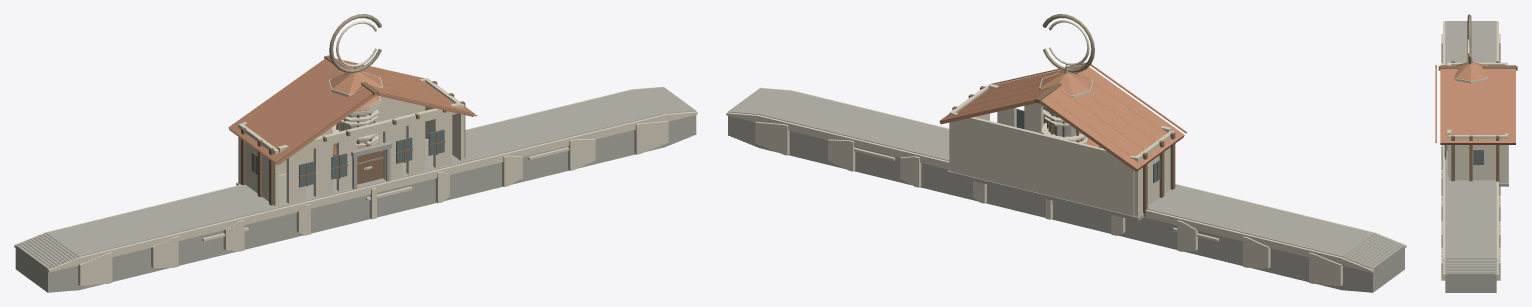
Rendered from world15-village-architecture.glb.
3 renders of one model, left to right at view 1: azimuth 30°, elevation 25°; view 2: azimuth 150°, elevation 25°; view 3: azimuth 270°, elevation 25°, orthographic. The views are drawn at different scales.
Parts seen in each view (by area): view 1: coursed-retaining-stone.007, Hall_cream lime plaster, Hall_ochre fired clay, coursed-retaining-stone.005, Wall_07_river-worn stone, Wall_10_cream lime plaster, coursed-retaining-stone, Hall_deep walnut timber, coursed-retaining-stone.003, Wall_00_cream lime plaster, Wall_03_cream lime plaster, Wall_06_cream lime plaster (+16 smaller); view 2: coursed-retaining-stone.007, Hall_cream lime plaster, Hall_ochre fired clay, coursed-retaining-stone, coursed-retaining-stone.001, Wall_07_river-worn stone, Wall_10_cream lime plaster, Wall_00_cream lime plaster, Wall_09_cream lime plaster, coursed-retaining-stone.002, Wall_03_cream lime plaster, Wall_03_river-worn stone (+14 smaller); view 3: coursed-retaining-stone.007, Hall_ochre fired clay, Hall_cream lime plaster, coursed-retaining-stone, Wall_10_cream lime plaster, Hall_deep walnut timber, ochre-watch-roof.001, Wall_00_cream lime plaster, bronze-moon-crest, Wall_03_river-worn stone, Wall_05_river-worn stone, coursed-retaining-stone.001 (+10 smaller).
Part boxes in pixels (x1=…): coursed-retaining-stone.007: x1=46, y1=89, x2=665, y2=290; Hall_cream lime plaster: x1=238, y1=21, x2=464, y2=206; Hall_ochre fired clay: x1=228, y1=58, x2=477, y2=164; coursed-retaining-stone.005: x1=39, y1=89, x2=672, y2=290; Wall_07_river-worn stone: x1=37, y1=88, x2=675, y2=290; Wall_10_cream lime plaster: x1=44, y1=89, x2=667, y2=283; coursed-retaining-stone: x1=15, y1=87, x2=696, y2=292; Hall_deep walnut timber: x1=241, y1=55, x2=465, y2=205; coursed-retaining-stone.003: x1=28, y1=88, x2=684, y2=291; Wall_00_cream lime plaster: x1=14, y1=86, x2=697, y2=286; Wall_03_cream lime plaster: x1=23, y1=87, x2=688, y2=285; Wall_06_cream lime plaster: x1=32, y1=88, x2=679, y2=284; coursed-retaining-stone.007: x1=758, y1=90, x2=1374, y2=290; Hall_cream lime plaster: x1=949, y1=20, x2=1174, y2=216; Hall_ochre fired clay: x1=939, y1=62, x2=1187, y2=171; coursed-retaining-stone: x1=728, y1=88, x2=1404, y2=292; coursed-retaining-stone.001: x1=731, y1=88, x2=1401, y2=292; Wall_07_river-worn stone: x1=749, y1=90, x2=1383, y2=290; Wall_10_cream lime plaster: x1=756, y1=90, x2=1376, y2=283; Wall_00_cream lime plaster: x1=726, y1=87, x2=1406, y2=286; Wall_09_cream lime plaster: x1=753, y1=90, x2=1379, y2=284; coursed-retaining-stone.002: x1=734, y1=88, x2=1398, y2=292; Wall_03_cream lime plaster: x1=735, y1=88, x2=1397, y2=285; Wall_03_river-worn stone: x1=737, y1=89, x2=1395, y2=291; coursed-retaining-stone.007: x1=1445, y1=29, x2=1496, y2=258; Hall_ochre fired clay: x1=1435, y1=65, x2=1515, y2=144; Hall_cream lime plaster: x1=1447, y1=20, x2=1508, y2=183; coursed-retaining-stone: x1=1445, y1=21, x2=1496, y2=292; Wall_10_cream lime plaster: x1=1441, y1=29, x2=1500, y2=258; Hall_deep walnut timber: x1=1438, y1=61, x2=1517, y2=186; ochre-watch-roof.001: x1=1454, y1=62, x2=1487, y2=80; Wall_00_cream lime plaster: x1=1441, y1=21, x2=1500, y2=280; bronze-moon-crest: x1=1467, y1=14, x2=1471, y2=64; Wall_03_river-worn stone: x1=1445, y1=23, x2=1496, y2=269; Wall_05_river-worn stone: x1=1445, y1=25, x2=1496, y2=266; coursed-retaining-stone.001: x1=1445, y1=21, x2=1496, y2=272.
Bounding box in the file's own units: 84.04 × 25.37 × 11.56.
